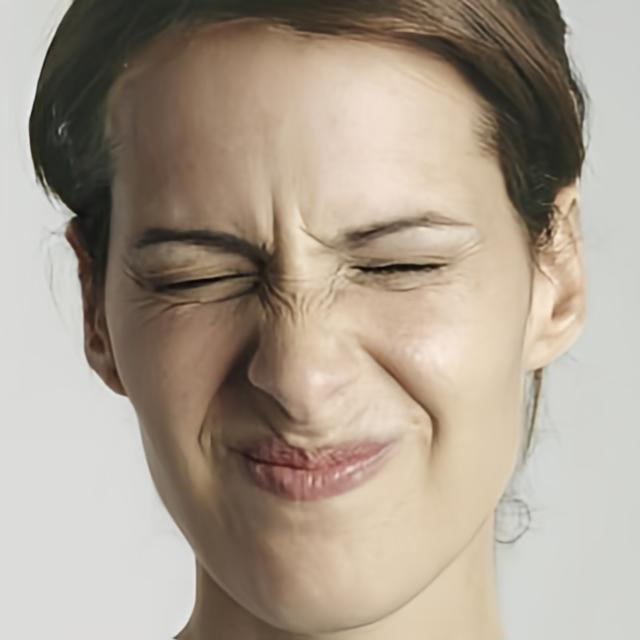disgust: (102, 15, 532, 635)
